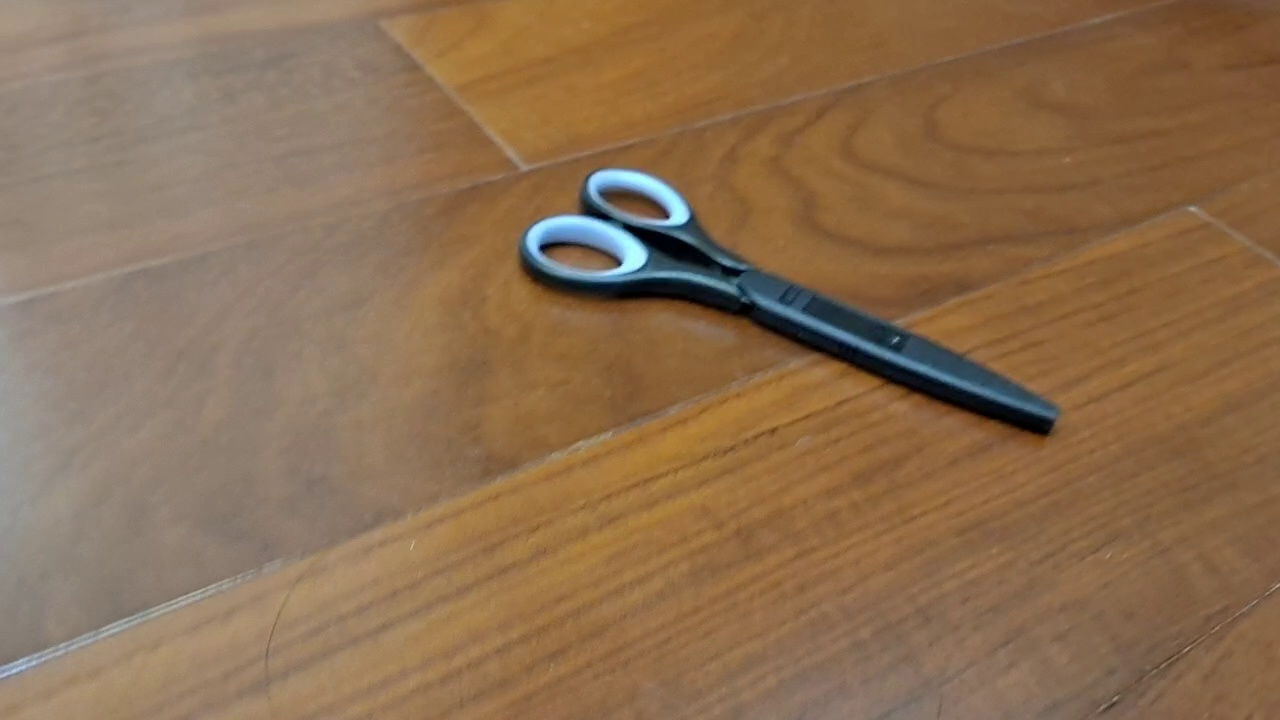scissors: (518, 166, 1064, 438)
